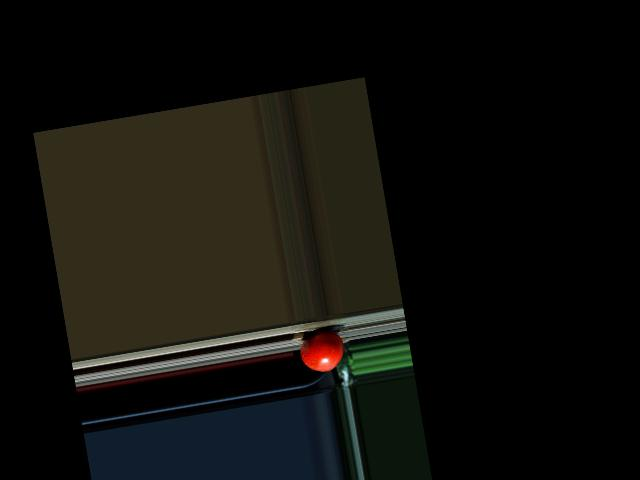tomato: (297, 328, 348, 375)
